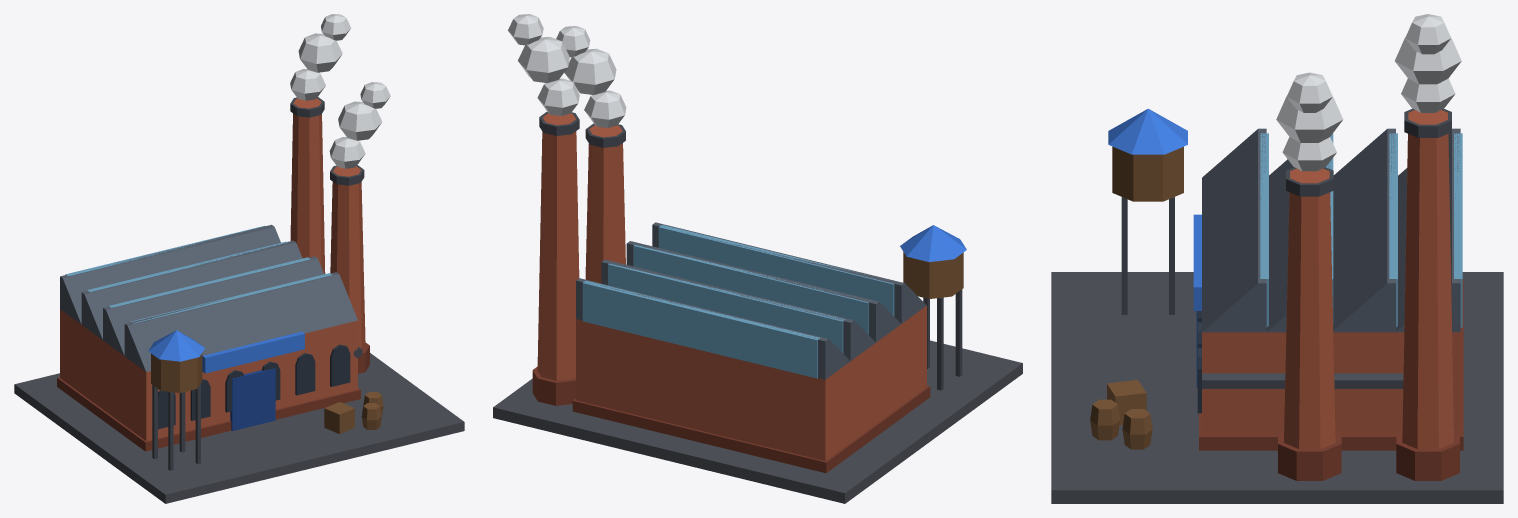
Rendered from bld_factory.glb.
3 renders of one model, left to right at view 1: azimuth 30°, elevation 25°; view 2: azimuth 150°, elevation 25°; view 3: azimuth 270°, elevation 25°, orthographic. The views are drawn at different scales.
Parts seen in each view (by area): view 1: bld_factory; view 2: bld_factory; view 3: bld_factory.
Part boxes in pixels (x1,y1,x2,y2): bld_factory: (14,14,464,503); bld_factory: (493,14,1022,503); bld_factory: (1051,14,1503,503).
Size of the model in its own units: 0.4948 by 0.497 by 0.42.
